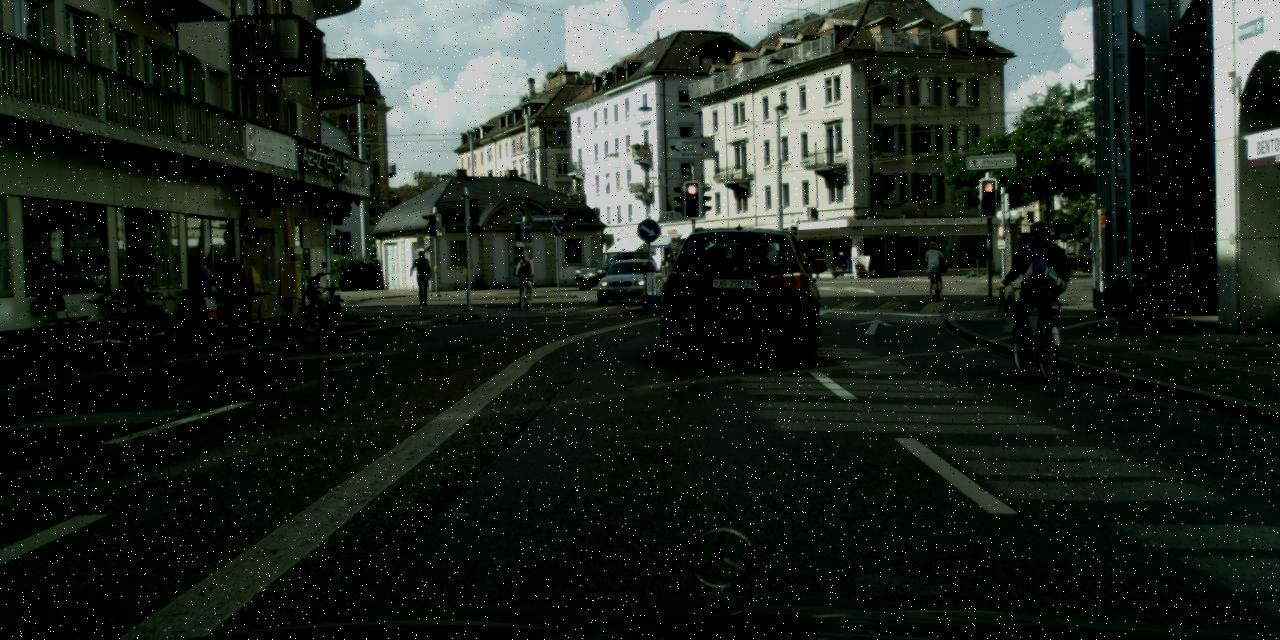ped: (1010, 220, 1066, 358), (186, 253, 216, 329), (216, 252, 246, 327), (923, 241, 946, 296), (410, 249, 432, 304), (516, 251, 536, 300)
